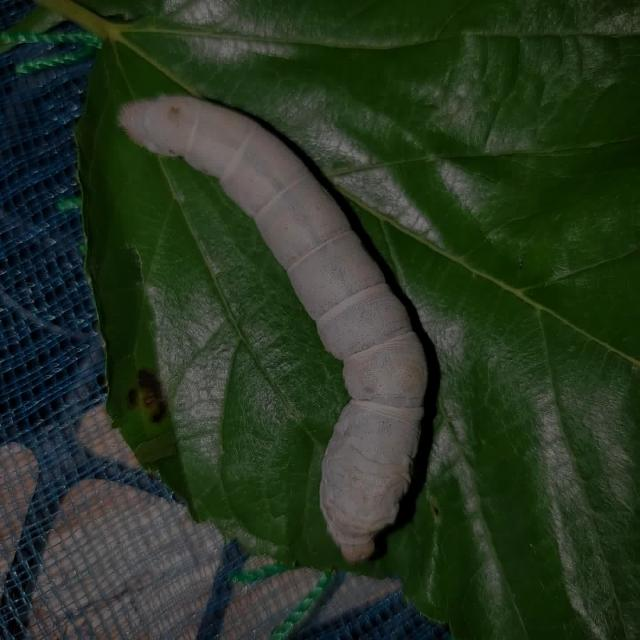Healthy: (95, 64, 461, 590)
